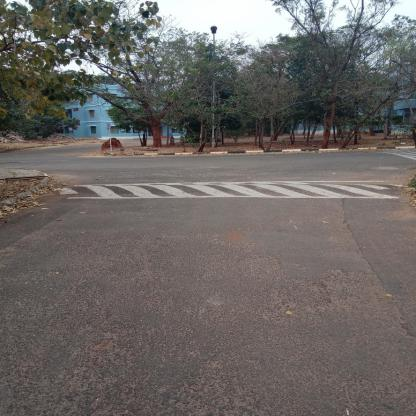speed-bumps: (47, 174, 412, 206)
